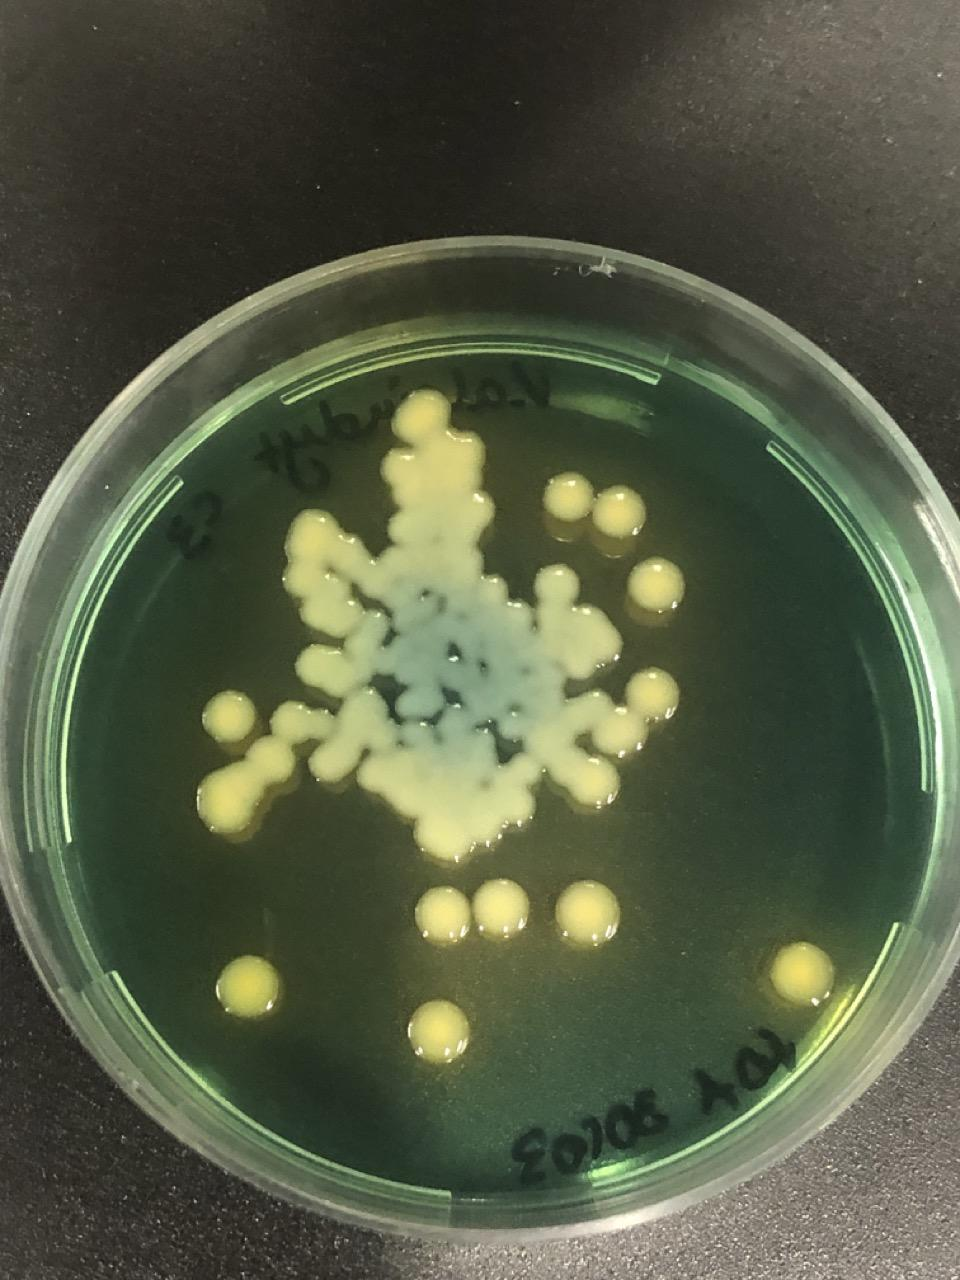valgino: (296, 610, 441, 753), (197, 700, 335, 829), (561, 667, 683, 810), (542, 469, 648, 538), (395, 390, 482, 475), (281, 507, 365, 595), (416, 805, 500, 863), (490, 753, 539, 823), (415, 886, 473, 944), (772, 943, 830, 1001), (558, 883, 614, 941), (474, 879, 530, 937), (199, 688, 255, 747), (217, 957, 273, 1015), (627, 554, 684, 612), (410, 1004, 466, 1062), (536, 564, 578, 629), (381, 446, 423, 492), (440, 707, 473, 739), (439, 659, 472, 691), (563, 647, 596, 679), (298, 594, 332, 626), (387, 513, 421, 545), (498, 709, 530, 741), (499, 602, 531, 634), (475, 574, 507, 607), (463, 493, 495, 525), (357, 761, 389, 792), (308, 748, 340, 779), (452, 548, 484, 580)
